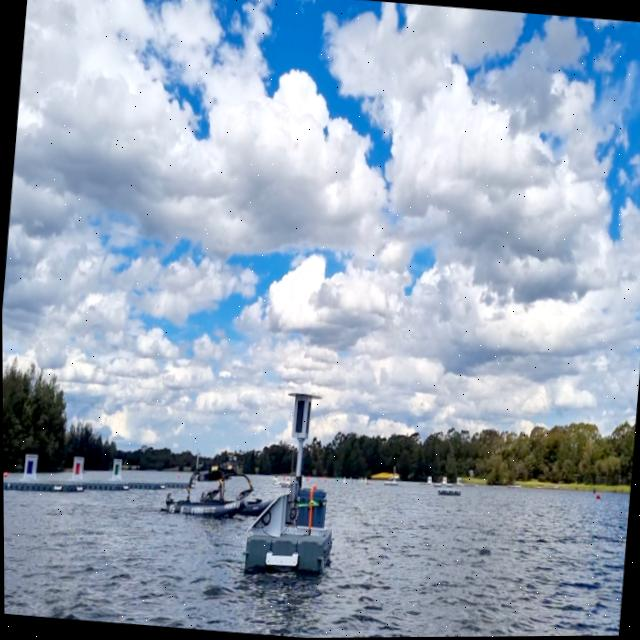led: (292, 399, 306, 436)
